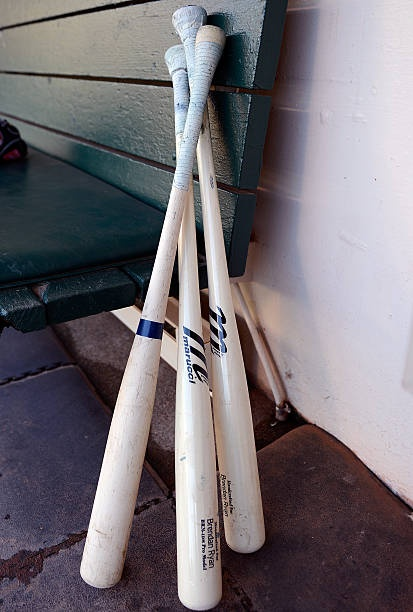bita: (81, 31, 224, 587), (172, 31, 226, 604)
